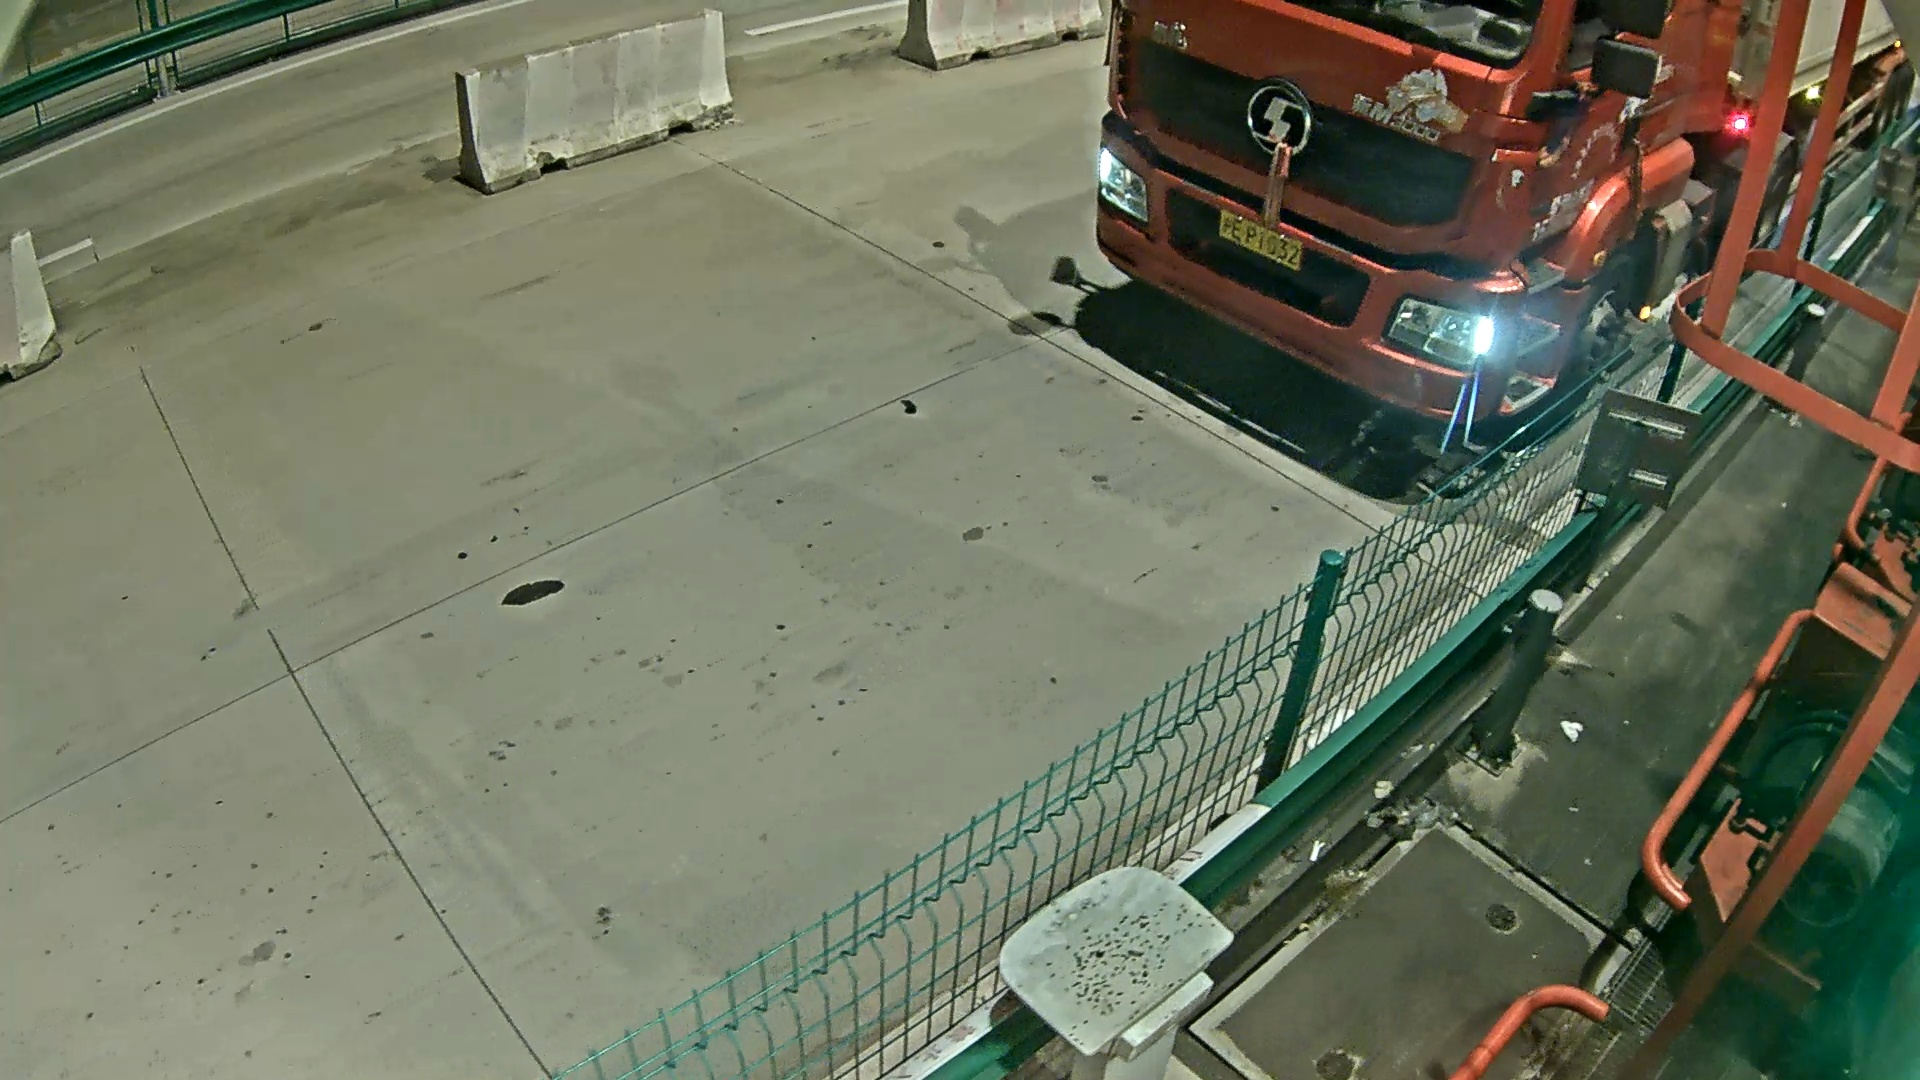head: (1096, 21, 1605, 472)
plate: (1216, 210, 1326, 277)
